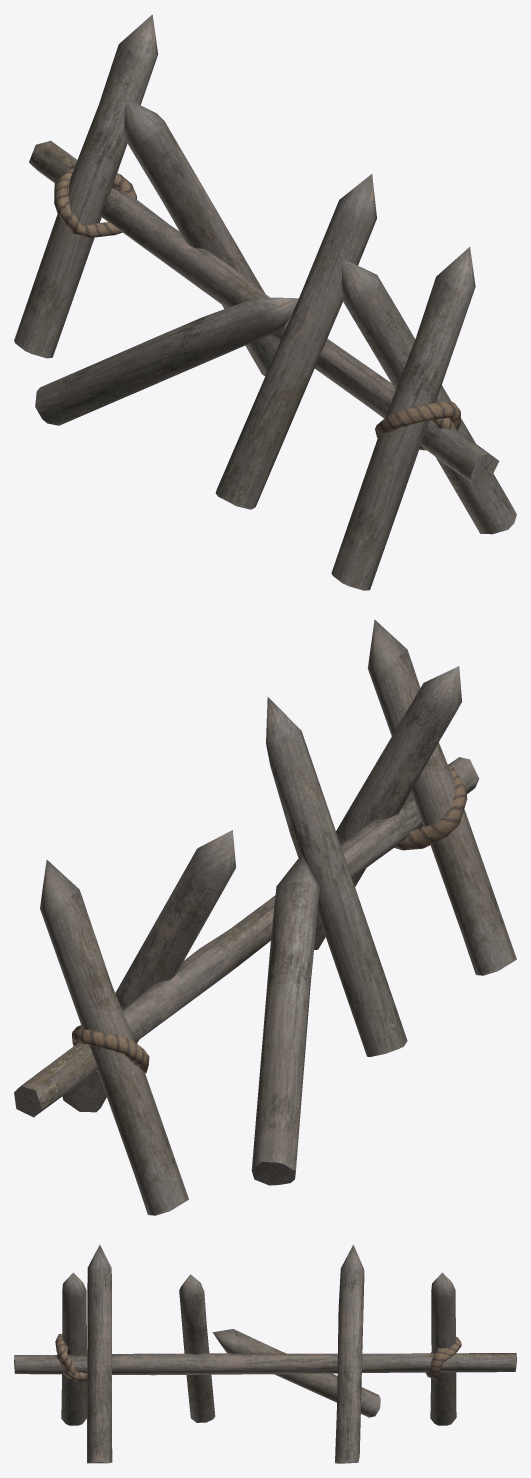
Rendered from SM_barrier_2.fbx.
3 renders of one model, top to bottom at view 1: azimuth 30°, elevation 25°; view 2: azimuth 150°, elevation 25°; view 3: azimuth 270°, elevation 25°, orthographic. The views are drawn at different scales.
Visible parts, largest first — view 1: SM_barrier_2_LOD0; view 2: SM_barrier_2_LOD0; view 3: SM_barrier_2_LOD0.
Boxes of the visible parts, x1,y1,x2,y2 form: SM_barrier_2_LOD0: (14,14,516,590); SM_barrier_2_LOD0: (14,619,516,1215); SM_barrier_2_LOD0: (14,1244,516,1463).
Size of the model in its own units: 113 by 345 by 143.
